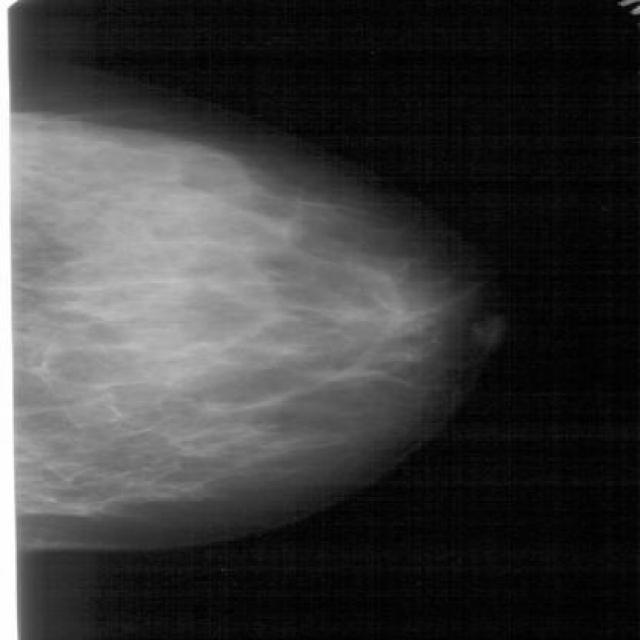tumor: (42, 129, 350, 472)
